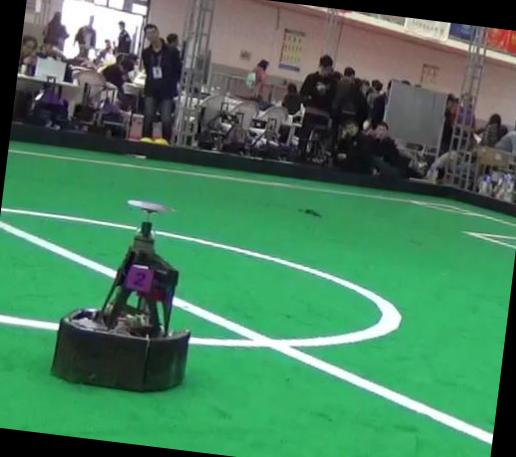robot: (51, 199, 189, 390)
